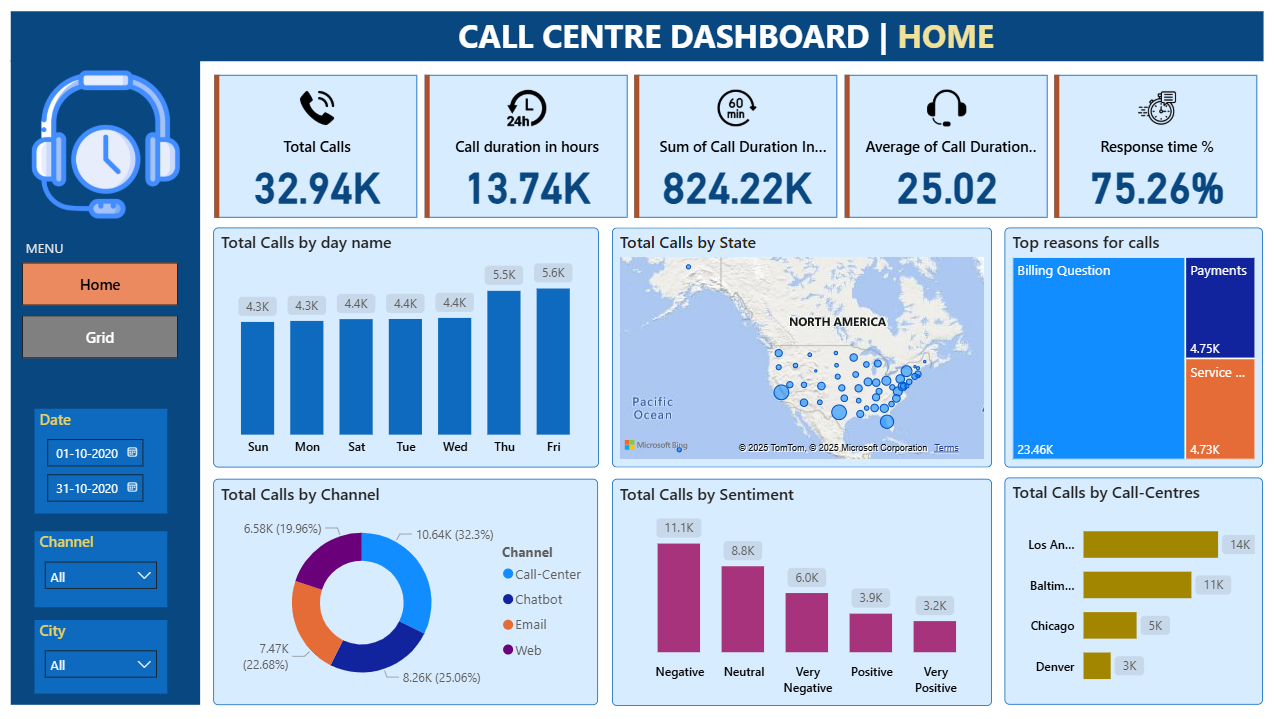

This screenshot's page, from the dashboard's own definition file:
{"tool":"powerbi","page":{"name":"Home ","canvas":[1280,720],"ordinal":0},"visuals":[{"type":"shape","box":[13.7,11,1252.8,50],"z":0},{"type":"shape","box":[13.7,60.4,189.4,644.9],"z":1000},{"type":"cardVisual","title":"Total Calls ","fields":{"Data":["Call Center_Call Center.Total Calls","Call Center_Call Center.Call duration in hours","Sum(Call Center_Call Center.Call Duration In Minutes)","Avg(Call Center_Call Center.Call Duration In Minutes)","Call Center_Call Center.Response time %"]},"box":[212.7,70,1053.9,153.7],"z":2000},{"type":"donutChart","fields":{"Category":["Call Center_Call Center.Channel"],"Y":["Call Center_Call Center.Total Calls"]},"box":[216.2,478.8,385,226.2],"z":3000},{"type":"columnChart","fields":{"Category":["Call Center_Call Center.Sentiment"],"Y":["Call Center_Call Center.Total Calls"]},"box":[615,478.8,380,227.5],"z":4000},{"type":"clusteredBarChart","title":"Total Calls by Call-Centres ","fields":{"Y":["Call Center_Call Center.Total Calls"],"Category":["Call Center_Call Center.Call-Centres City"]},"box":[1007.5,477.5,258.8,227.5],"z":5000},{"type":"treemap","title":"Top reasons for calls","fields":{"Group":["Call Center_Call Center.Reason"],"Values":["Call Center_Call Center.Total Calls"]},"box":[1007.5,227.5,258.8,240],"z":6000},{"type":"textbox","box":[456.2,8.8,567.5,61.2],"z":7000},{"type":"columnChart","fields":{"Category":["Date table.day name"],"Y":["Call Center_Call Center.Total Calls"]},"box":[216.8,227.8,385.6,240.1],"z":8000},{"type":"map","title":"Total Calls by State ","fields":{"Category":["Call Center_Call Center.State"],"Size":["Call Center_Call Center.Total Calls"]},"box":[615,227.5,380,240],"z":9000},{"type":"slicer","title":"Date ","fields":{"Values":["Date table.Date"]},"box":[37.5,408.8,132.5,105],"z":10000},{"type":"slicer","title":"Channel","fields":{"Values":["Call Center_Call Center.Channel"]},"box":[37.5,531.2,132.5,76.2],"z":11000},{"type":"slicer","title":"City ","fields":{"Values":["Call Center_Call Center.City"]},"box":[37.5,620,132.5,73.8],"z":12000},{"type":"image","box":[30,62.5,157.5,163.8],"z":13000},{"type":"pageNavigator","box":[25,262.5,156.2,97.5],"z":13001},{"type":"textbox","box":[23.8,233.8,56.2,32.5],"z":13002}]}

Visuals, with their boxes in screenshot pixels (x1, y1, x2, y2), scaled from the page's 1280x720 canvas onto the 1274x719 screenshot:
shape: x1=14 y1=11 x2=1261 y2=61
shape: x1=14 y1=60 x2=202 y2=704
"Total Calls " cardVisual: x1=212 y1=70 x2=1261 y2=223
donutChart - Call Center_Call Center.Channel x Call Center_Call Center.Total Calls: x1=215 y1=478 x2=598 y2=704
columnChart - Call Center_Call Center.Sentiment x Call Center_Call Center.Total Calls: x1=612 y1=478 x2=990 y2=705
"Total Calls by Call-Centres " clusteredBarChart: x1=1003 y1=477 x2=1260 y2=704
"Top reasons for calls" treemap: x1=1003 y1=227 x2=1260 y2=467
textbox: x1=454 y1=9 x2=1019 y2=70
columnChart - Date table.day name x Call Center_Call Center.Total Calls: x1=216 y1=227 x2=600 y2=467
"Total Calls by State " map: x1=612 y1=227 x2=990 y2=467
"Date " slicer: x1=37 y1=408 x2=169 y2=513
"Channel" slicer: x1=37 y1=530 x2=169 y2=607
"City " slicer: x1=37 y1=619 x2=169 y2=693
image: x1=30 y1=62 x2=187 y2=226
pageNavigator: x1=25 y1=262 x2=180 y2=360
textbox: x1=24 y1=233 x2=80 y2=266
